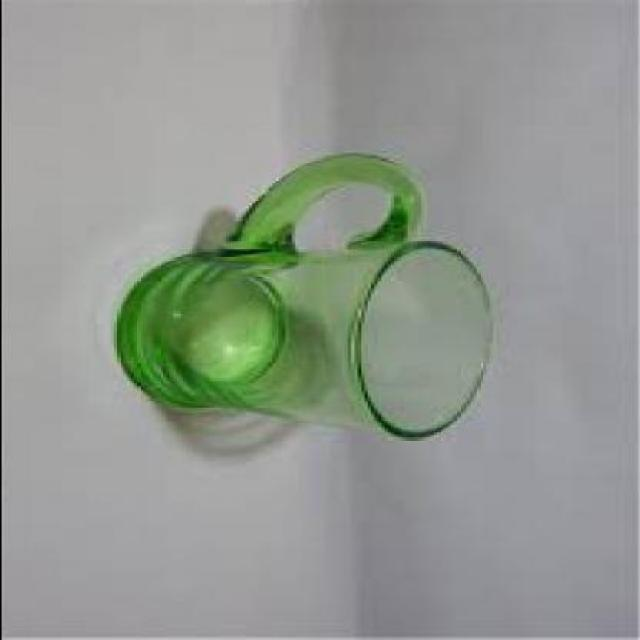GLASS: (119, 156, 495, 442)
